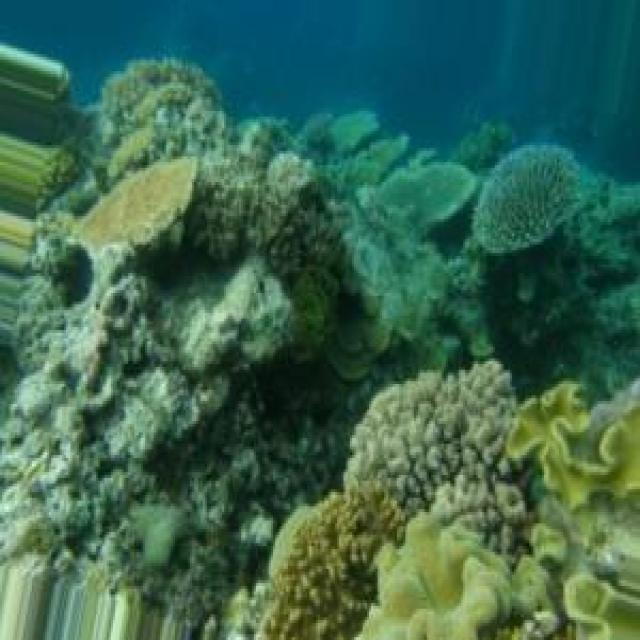healthy coral: (347, 362, 528, 556), (256, 483, 405, 638), (361, 513, 511, 638), (186, 122, 315, 262), (508, 380, 640, 508), (101, 60, 226, 182), (474, 145, 580, 254), (80, 161, 198, 249), (376, 160, 476, 229)
